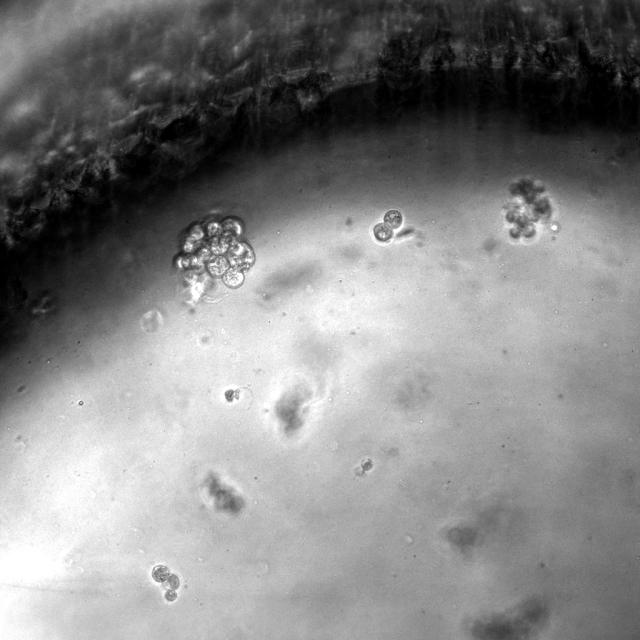organoid: (173, 209, 254, 306), (503, 177, 552, 239), (208, 475, 244, 514), (151, 565, 180, 602), (373, 209, 402, 242), (361, 458, 373, 472)
